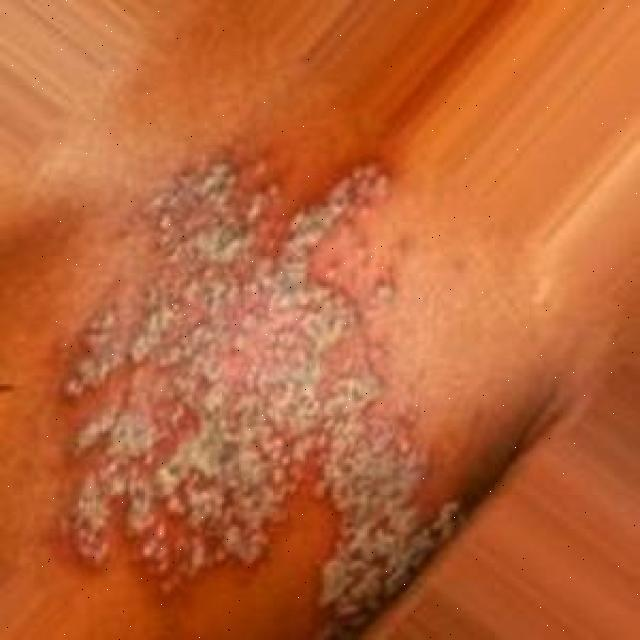Shingles: (66, 143, 459, 633)
